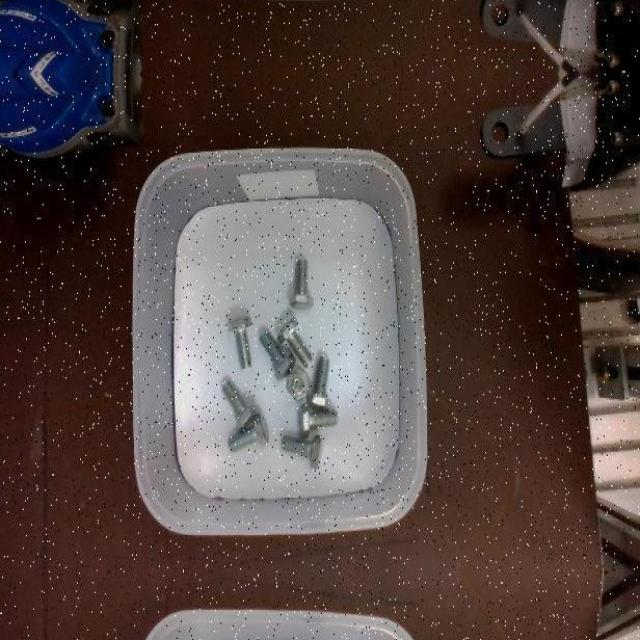screw: (259, 329, 295, 381), (221, 381, 258, 431), (278, 316, 314, 367), (229, 412, 270, 452), (299, 403, 338, 438), (308, 355, 332, 411), (228, 315, 252, 369), (290, 259, 315, 310), (282, 436, 321, 468), (286, 368, 310, 401)
